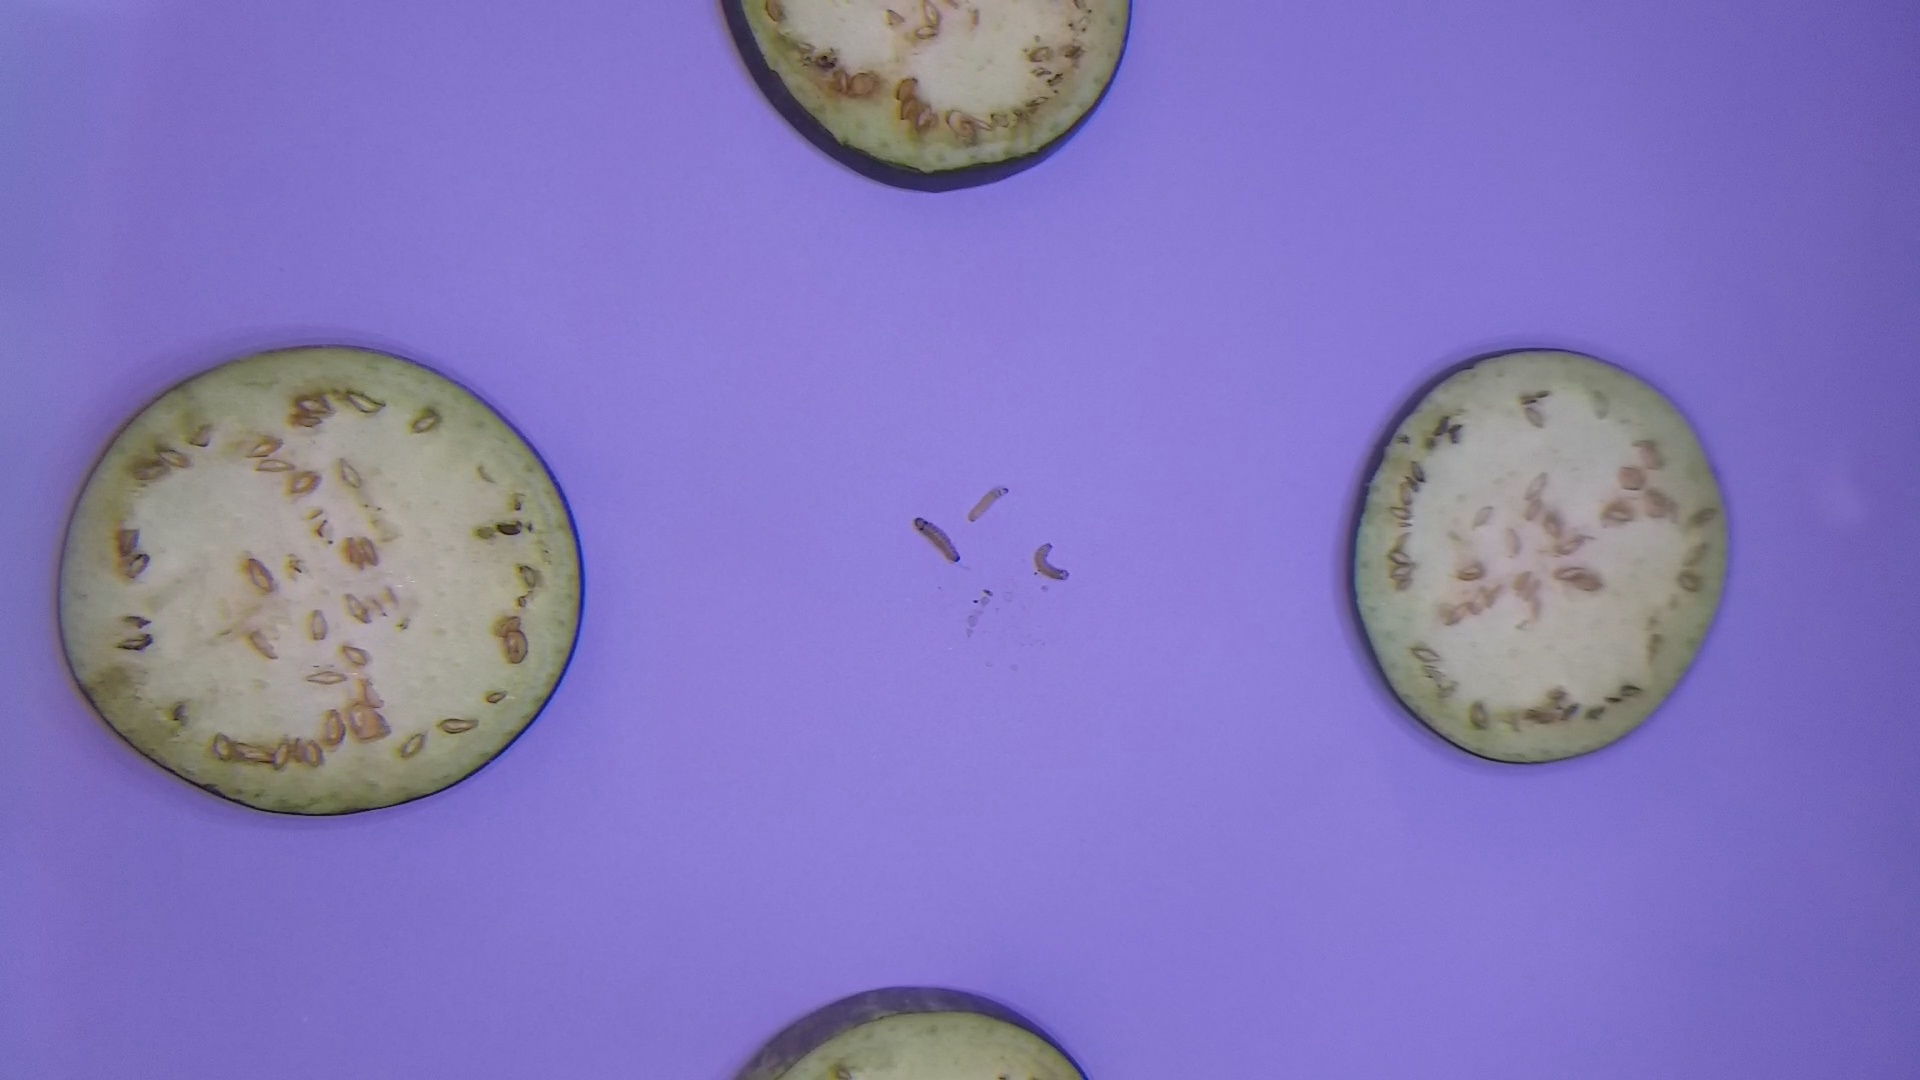efsb: (898, 506, 964, 570), (963, 476, 1015, 537), (1029, 537, 1083, 593)
eggplant: (47, 328, 609, 831), (1336, 332, 1747, 779), (707, 1, 1164, 204), (713, 980, 1106, 1080)
